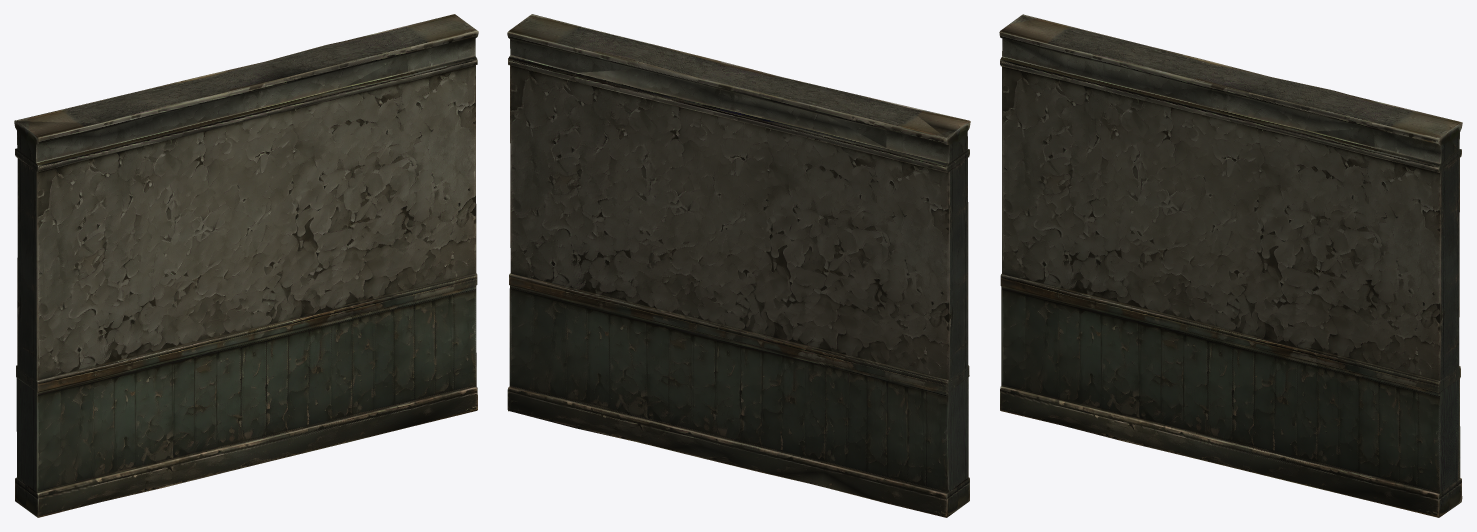
Rendered from wall5.fbx.
The picture shows the model from 3 angles, left to right: view 1: azimuth 30°, elevation 25°; view 2: azimuth 150°, elevation 25°; view 3: azimuth 330°, elevation 25°; orthographic projection.
Visible parts, largest first — view 1: wall5; view 2: wall5; view 3: wall5.
Boxes of the visible parts, x1=… form: wall5: x1=14, y1=14, x2=478, y2=517; wall5: x1=507, y1=14, x2=970, y2=517; wall5: x1=999, y1=14, x2=1462, y2=517.
Size of the model in its own units: 624 by 518 by 60.76.
1 material, 1 textured.
